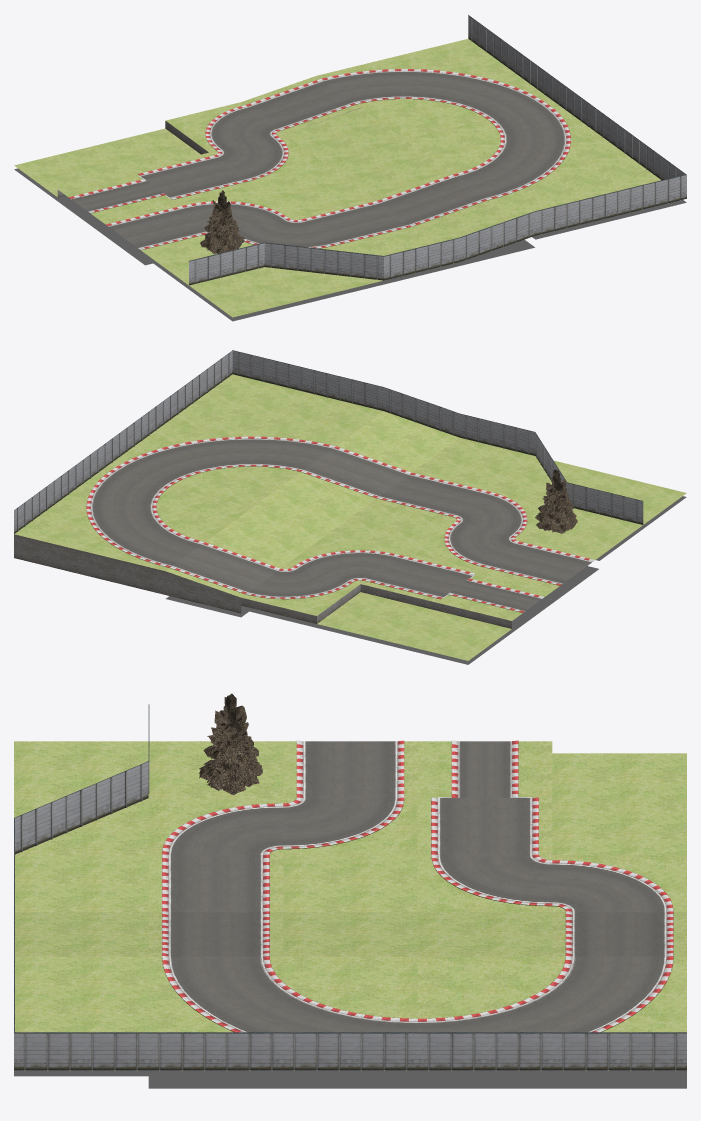
File: map5.obj
The picture shows the model from 3 angles, top to bottom: view 1: azimuth 30°, elevation 25°; view 2: azimuth 150°, elevation 25°; view 3: azimuth 270°, elevation 25°; orthographic projection. The views are drawn at different scales.
Parts seen in each view (by area): view 1: map6; view 2: map6; view 3: map6.
Boxes of the visible parts, x1,y1,x2,y2 form: map6: [14, 15, 686, 321]; map6: [14, 350, 686, 664]; map6: [14, 693, 686, 1088].
Size of the model in its own units: 388 by 65.67 by 323.
8 materials, 7 textured.
